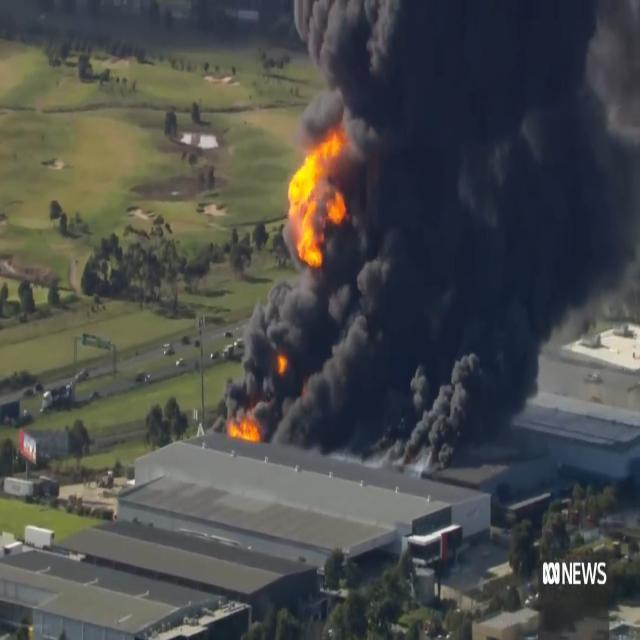fire: (286, 125, 350, 266), (229, 414, 261, 441), (274, 348, 288, 376)
